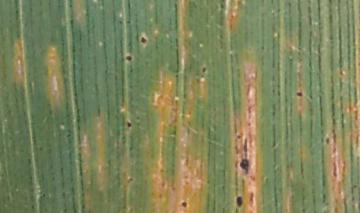tarspot: (239, 158, 250, 174), (235, 194, 243, 208), (331, 163, 338, 178), (243, 138, 249, 153), (248, 190, 254, 205), (124, 54, 133, 62), (180, 200, 188, 208), (141, 36, 147, 46), (296, 90, 303, 98), (325, 136, 331, 145), (127, 176, 133, 184), (201, 65, 207, 73), (42, 191, 47, 199), (127, 121, 132, 128), (237, 133, 242, 140), (119, 19, 124, 25), (127, 20, 132, 25)
